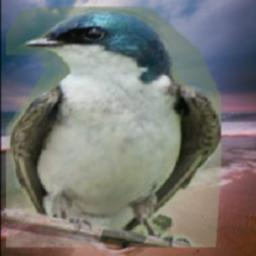Swallow: (6, 7, 221, 247)
